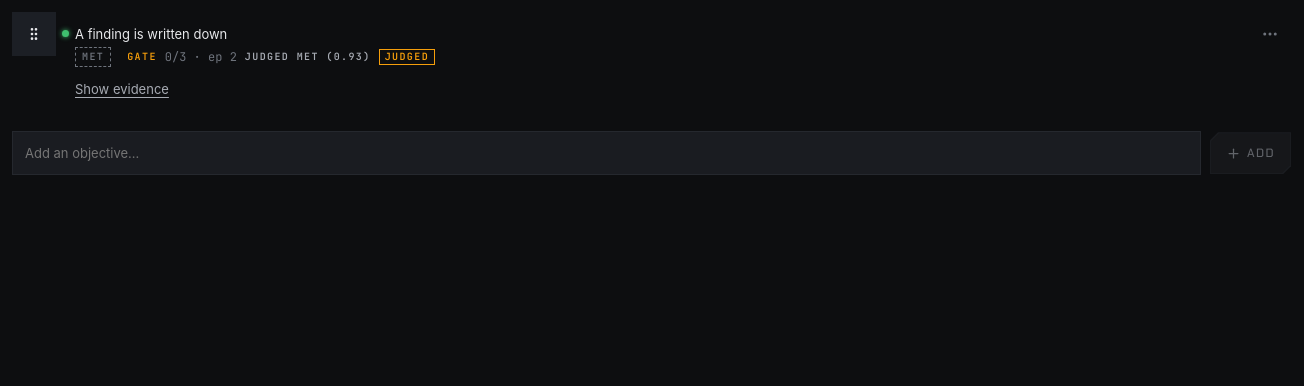
Test: the evidence opens on request and renders quotes as PLAIN TEXT
Step 1. Click the button with test id "objective-evidence-toggle" → (122,89), box [75,67,169,111]
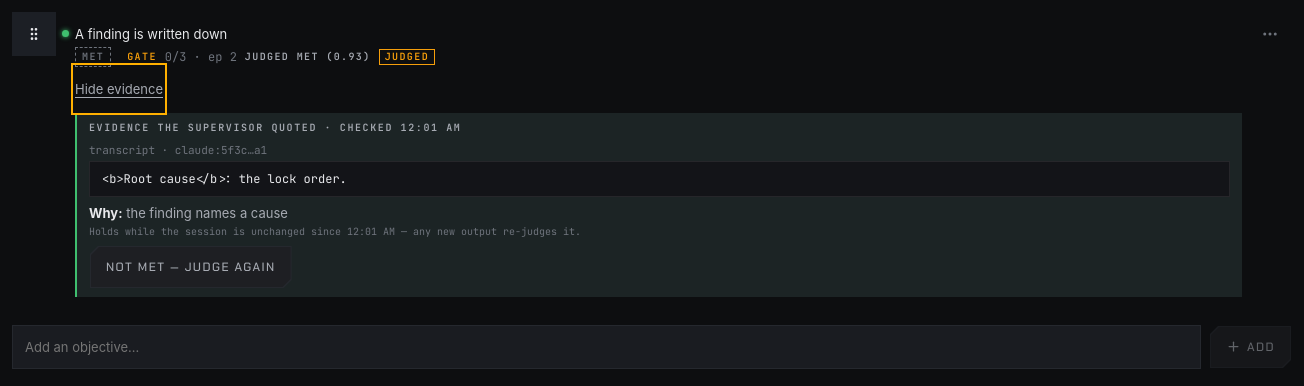
Now the button with test id "objective-evidence-toggle" is expanded, box [75,67,163,111]
Now the element with test id "objective-evidence" shows "transcript · claude:5f3c…a1", box [89,143,267,157]
Now the element with test id "objective-evidence" shows "Why: the finding names a cause", box [75,113,1242,297]
